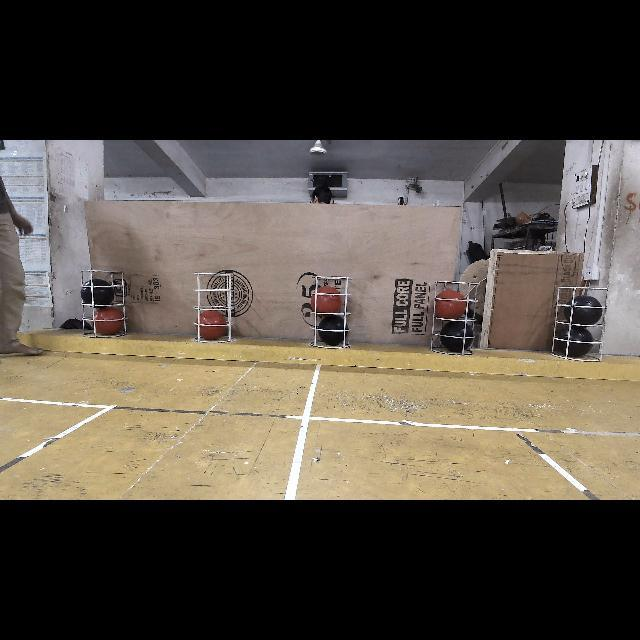P: (556, 326, 592, 356), (566, 295, 602, 325), (441, 320, 473, 350), (82, 280, 115, 308), (318, 315, 348, 345)
R: (434, 290, 466, 320), (196, 312, 228, 338), (312, 288, 342, 314), (92, 309, 124, 333)
S: (550, 280, 608, 364), (430, 276, 480, 356), (78, 267, 132, 339), (306, 274, 356, 350), (191, 270, 237, 346)
